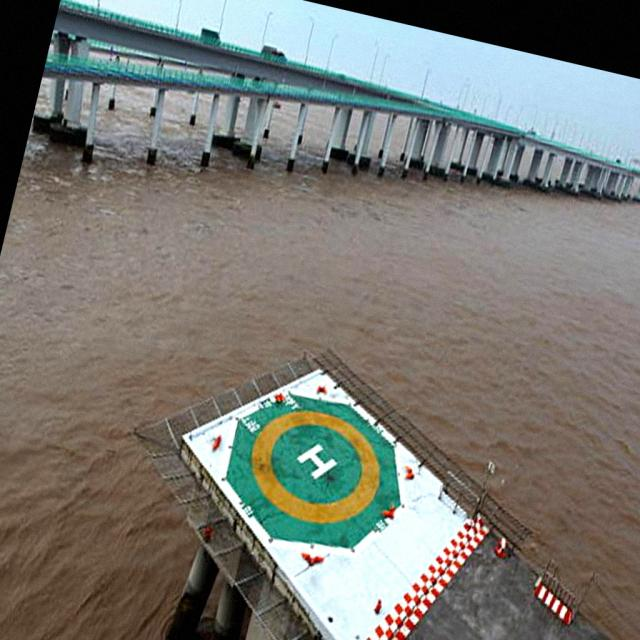helipad: (246, 406, 382, 526)
